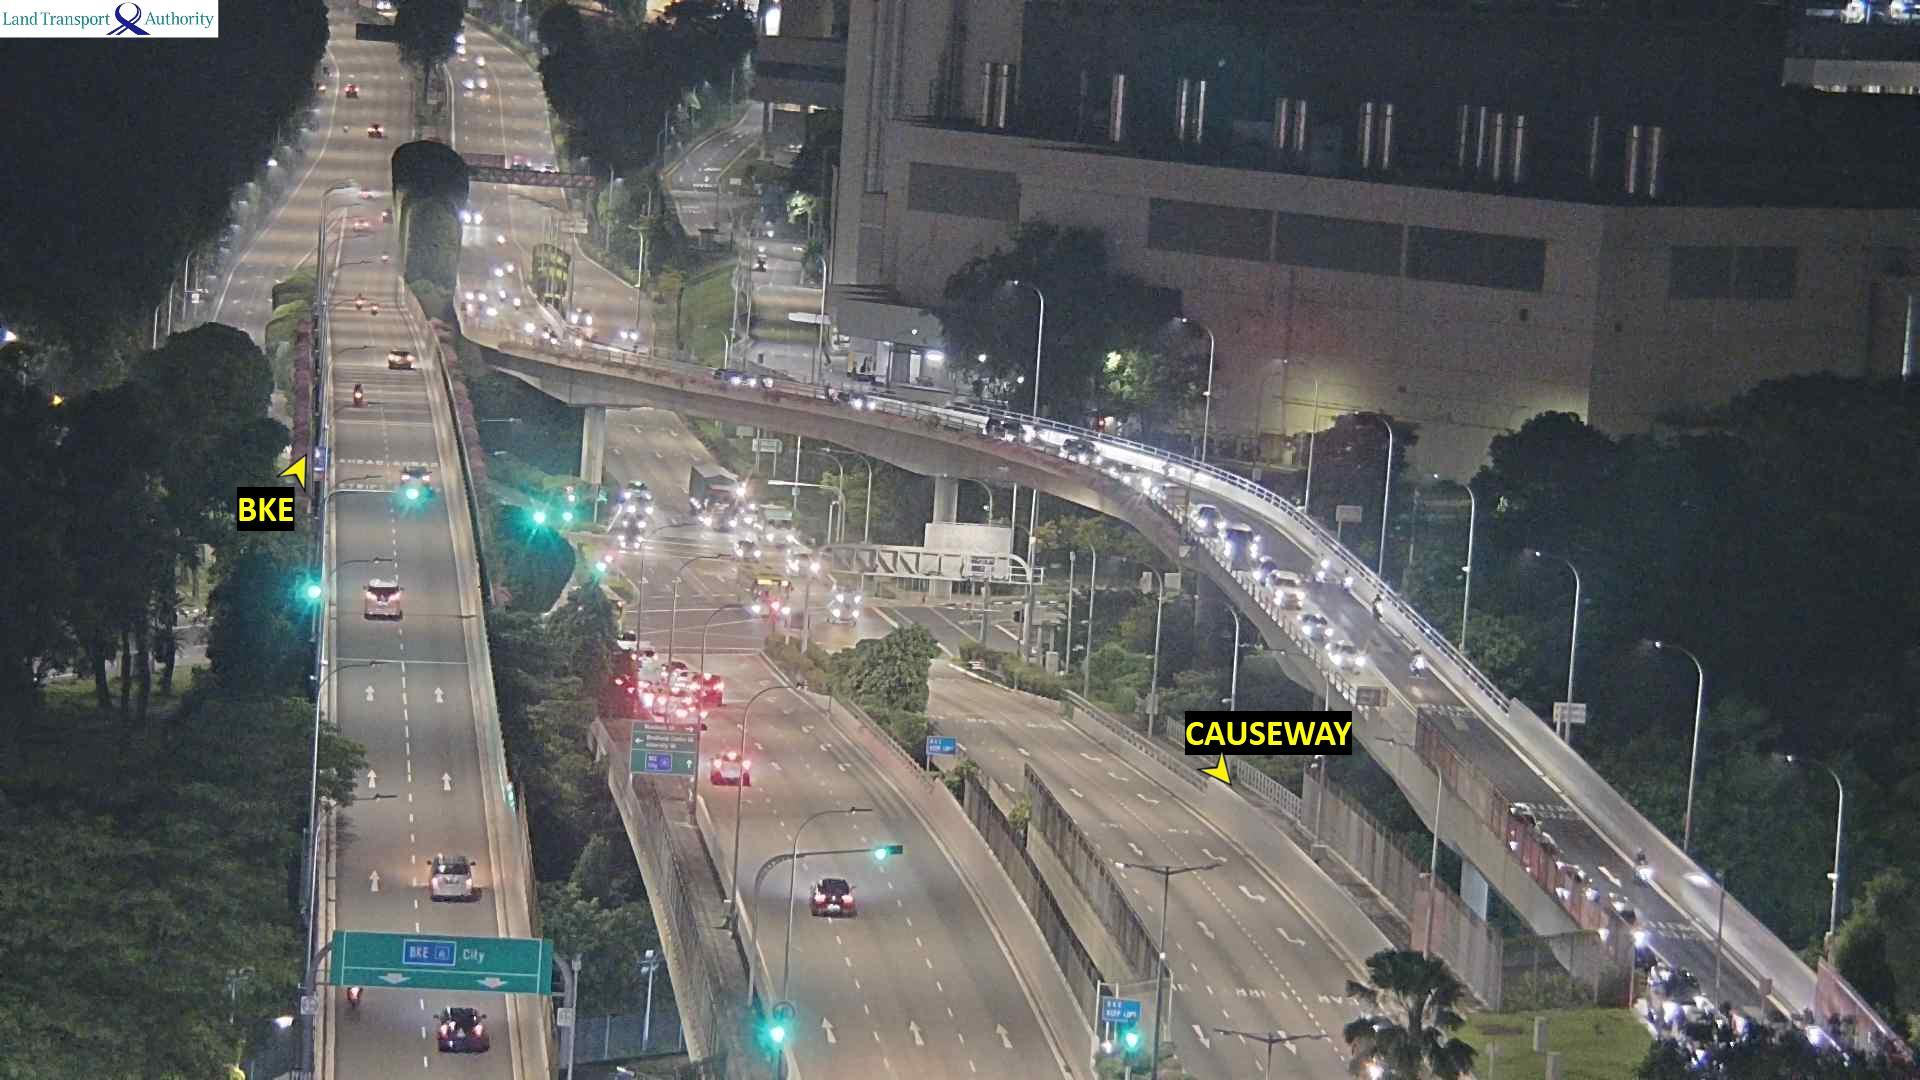vehicle-causeway-johor: (1648, 964, 1701, 1029), (1217, 521, 1255, 571), (1267, 568, 1305, 609), (831, 388, 876, 413), (713, 365, 757, 390), (1188, 504, 1222, 535), (1104, 459, 1142, 487), (1154, 480, 1188, 510), (986, 414, 1025, 440), (1060, 439, 1098, 464), (1331, 641, 1364, 669), (1299, 612, 1333, 634), (1636, 849, 1651, 884), (1412, 647, 1424, 673), (464, 211, 485, 224), (464, 290, 489, 301), (1374, 593, 1383, 620), (1342, 567, 1353, 589), (549, 331, 562, 348), (462, 302, 476, 316), (493, 264, 504, 282), (1319, 553, 1328, 571), (525, 320, 535, 336), (497, 287, 508, 302), (485, 307, 497, 318), (505, 262, 516, 274), (543, 326, 550, 340), (514, 295, 521, 309), (497, 233, 504, 245)
vehicle-causeway-singapore: (426, 851, 472, 902), (436, 1007, 487, 1051), (812, 876, 853, 918), (364, 576, 401, 621), (711, 749, 750, 786), (670, 700, 704, 732), (694, 674, 723, 703), (398, 464, 430, 489), (633, 646, 658, 669), (386, 347, 410, 369), (661, 662, 688, 680), (347, 988, 361, 1009), (384, 208, 396, 228), (355, 219, 369, 231), (353, 384, 363, 402), (367, 124, 380, 136), (369, 302, 378, 314), (356, 294, 363, 307), (382, 252, 389, 262)
